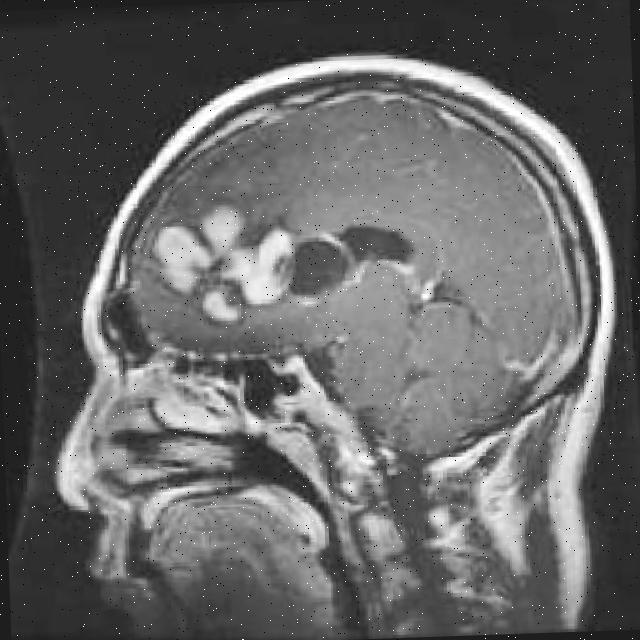EMCI: (228, 238, 308, 330), (128, 224, 201, 284)
